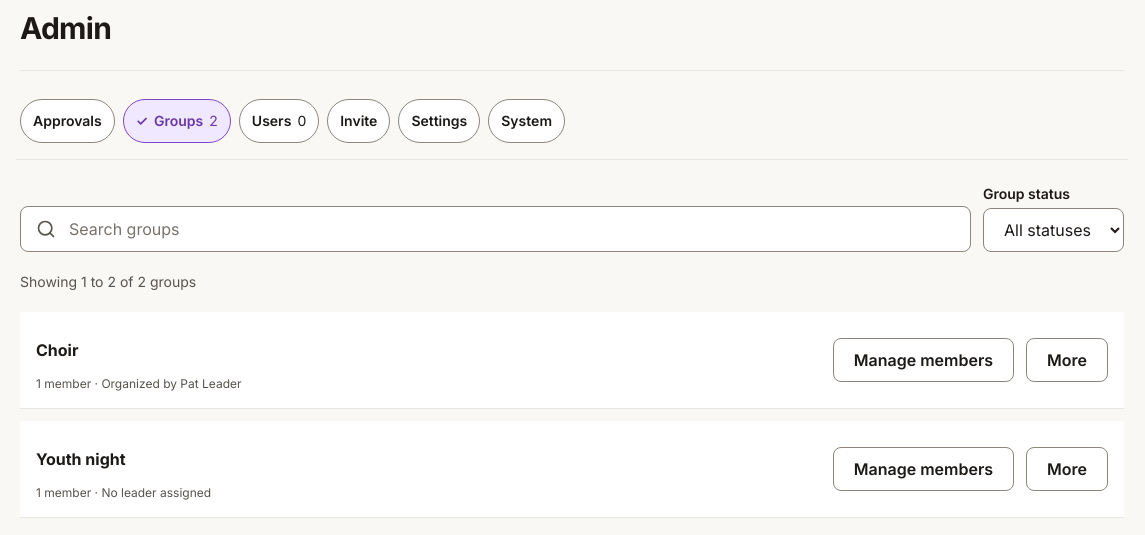
Test case: filters groups as you type and says when none match
Type "CHOIR" into the search field labelled "Search groups" at (496, 229), box 20,206 -> 971,252
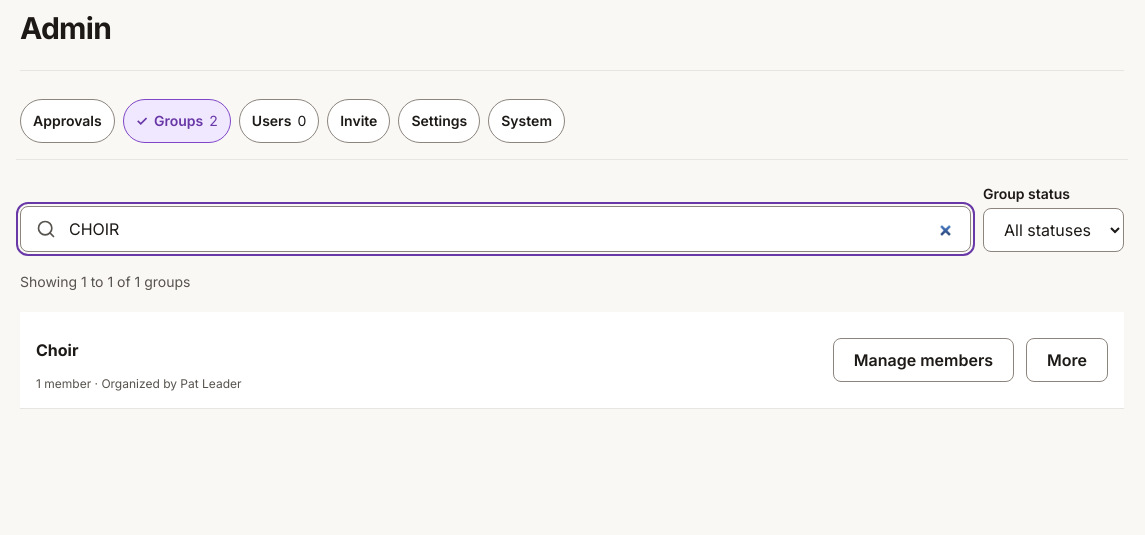
Check: the link "Choir" is shown, box 36,340 -> 78,360
Check: the link "Youth night" is gone
Replace the text in the search field named "Search groups" with "zzz" at (496, 229), box 20,206 -> 971,252
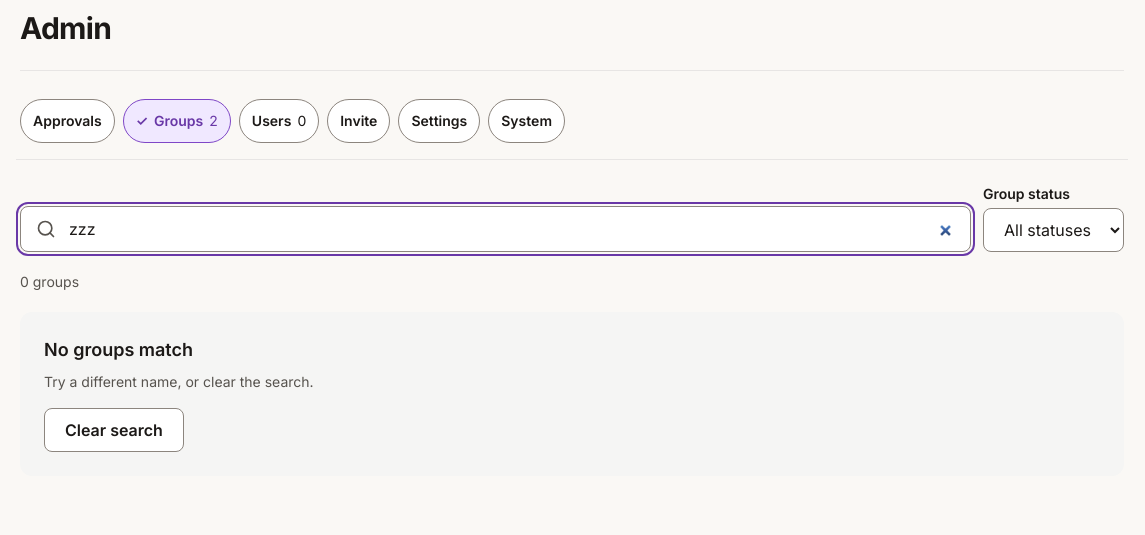
Check: the text "No groups match" is shown, box 44,339 -> 193,360
Click the button "Clear search" at (114, 430), box 44,408 -> 184,452
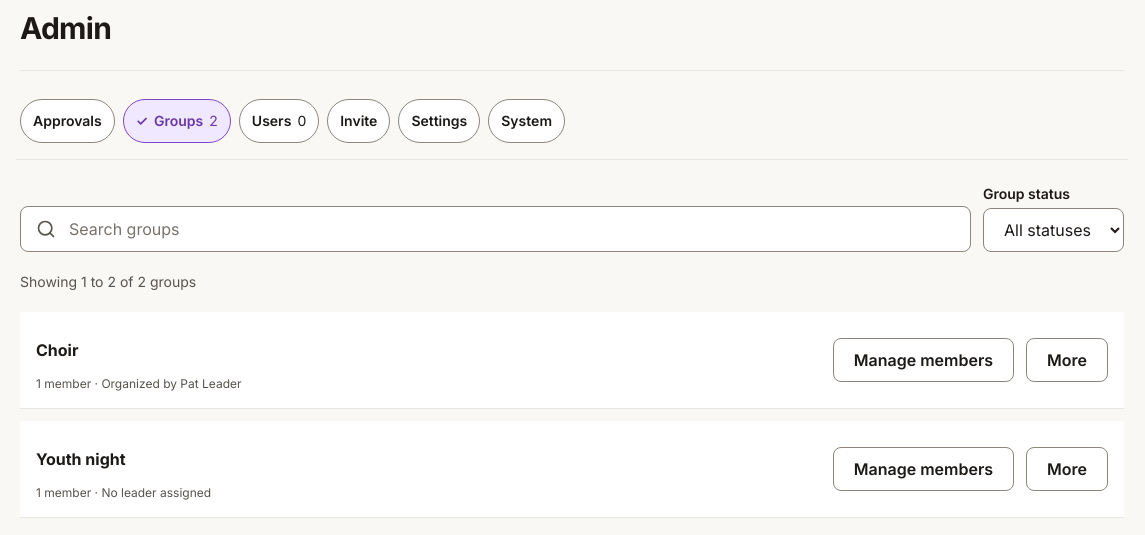
Check: the link "Youth night" is shown, box 36,449 -> 126,469
